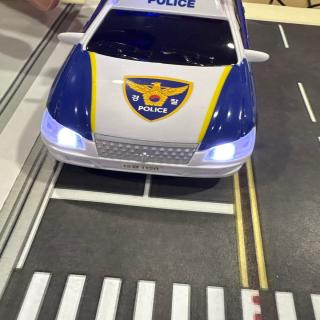Police_car: (41, 0, 269, 177)
